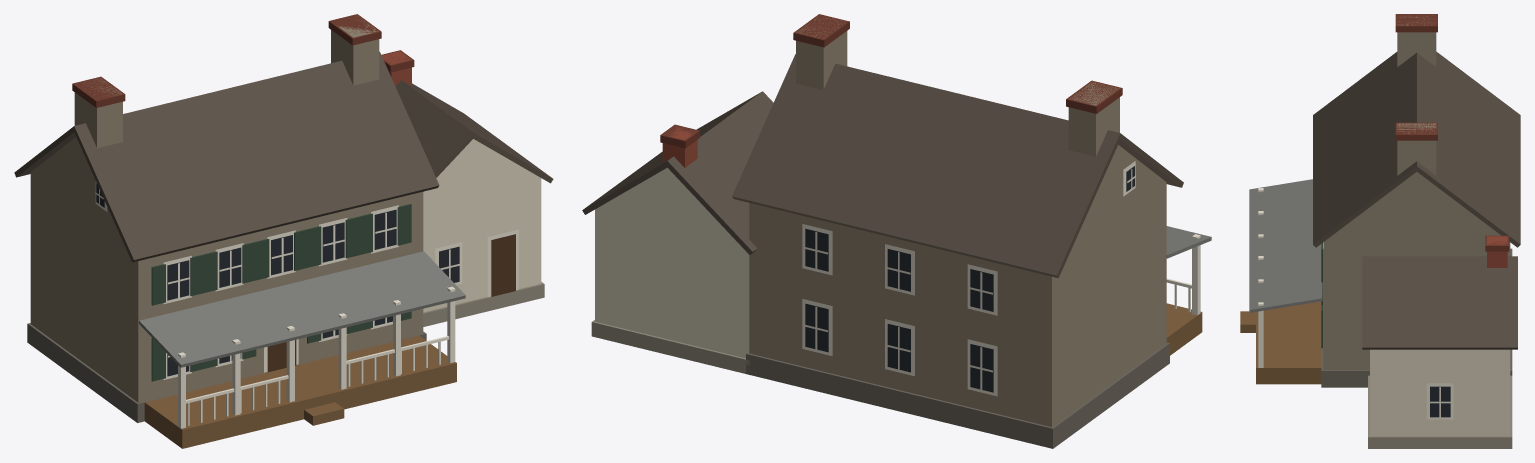
Rendered from hero_house.glb.
3 renders of one model, left to right at view 1: azimuth 30°, elevation 25°; view 2: azimuth 150°, elevation 25°; view 3: azimuth 270°, elevation 25°, orthographic. The views are drawn at different scales.
Parts seen in each view (by area): view 1: hero_house; view 2: hero_house; view 3: hero_house.
Part boxes in pixels (x1=…): hero_house: x1=14, y1=14, x2=553, y2=448; hero_house: x1=582, y1=14, x2=1211, y2=448; hero_house: x1=1240, y1=14, x2=1520, y2=448.
Bounding box in the file's own units: 17.3 × 10.7 × 10.8.
